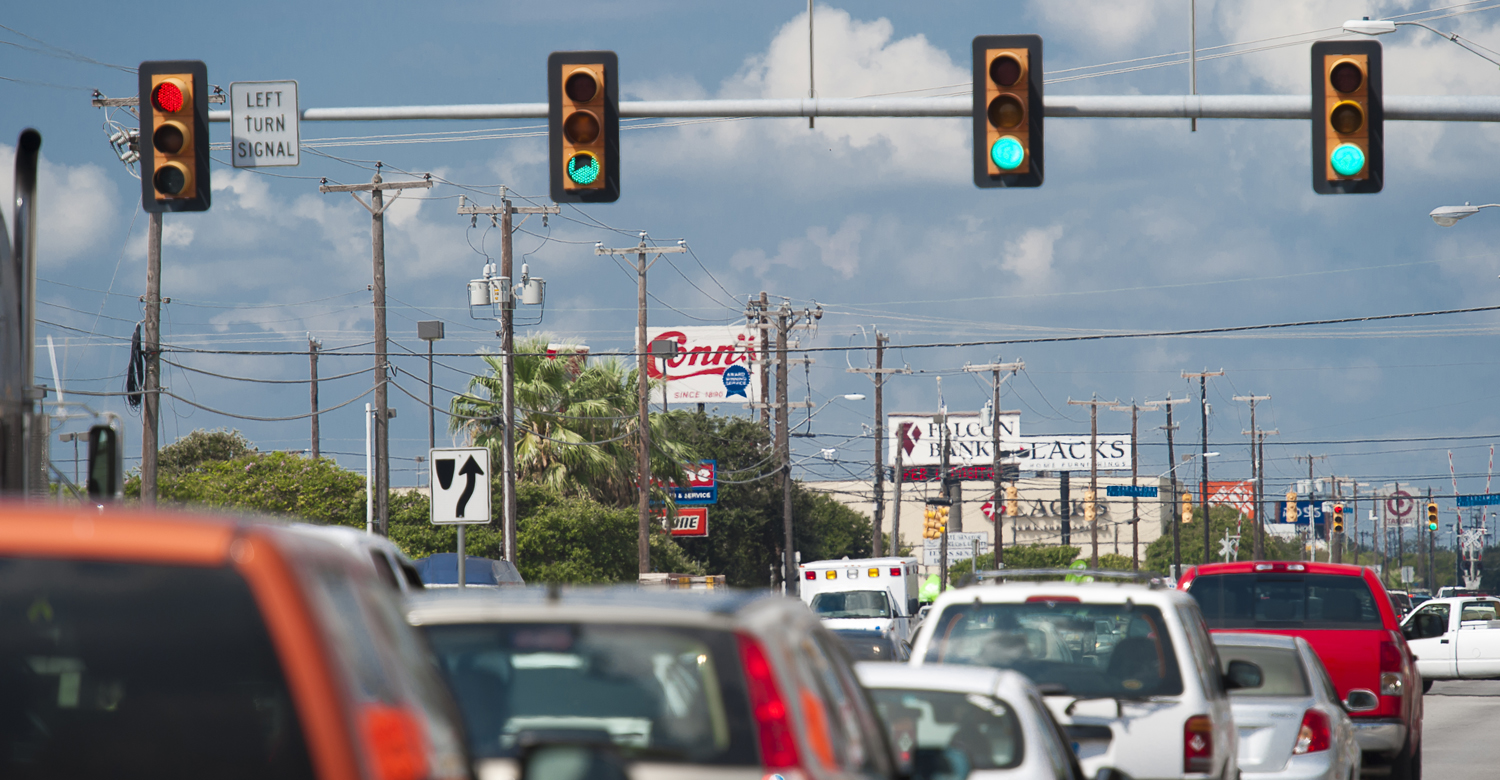traffic_light: (148, 72, 199, 202), (1322, 52, 1372, 184), (983, 46, 1032, 177), (560, 62, 607, 192)
